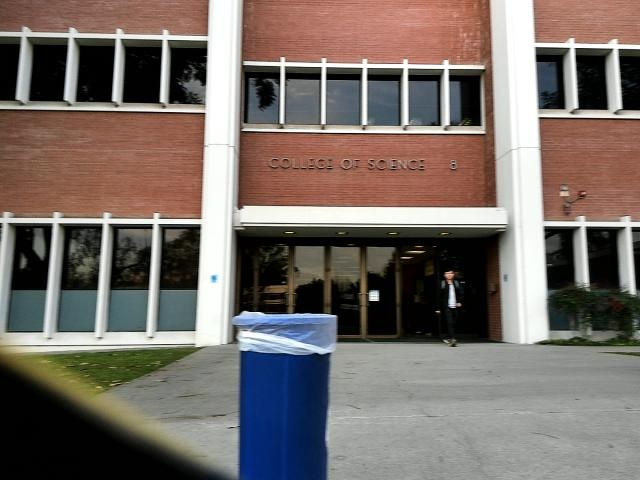trashcan_open: (229, 301, 343, 480)
